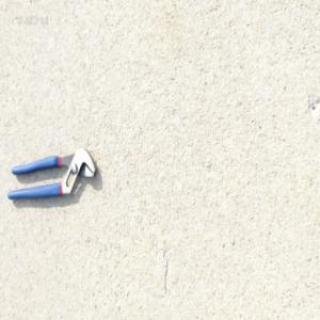Pliertrack_idkeyframe: (5, 143, 96, 202)
